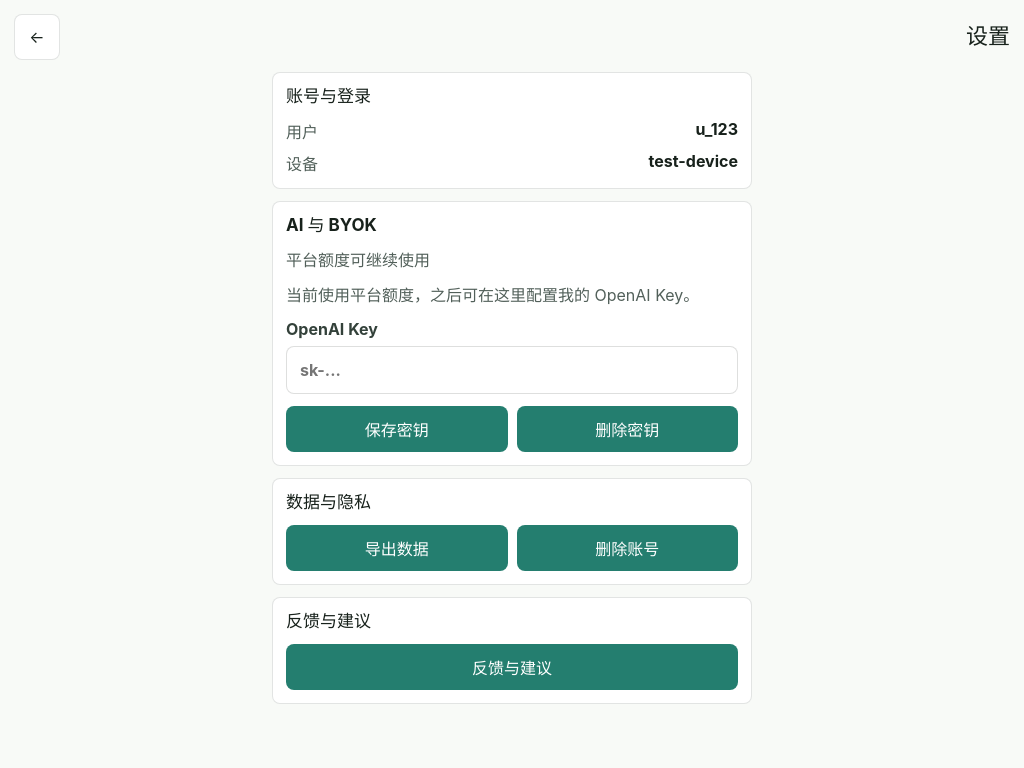
SettingsScreen › validates and saves BYOK without exposing key material in analytics
Type "sk-test-secret-value" into the password field labelled "OpenAI Key" at (512, 370), box [286,346,738,394]
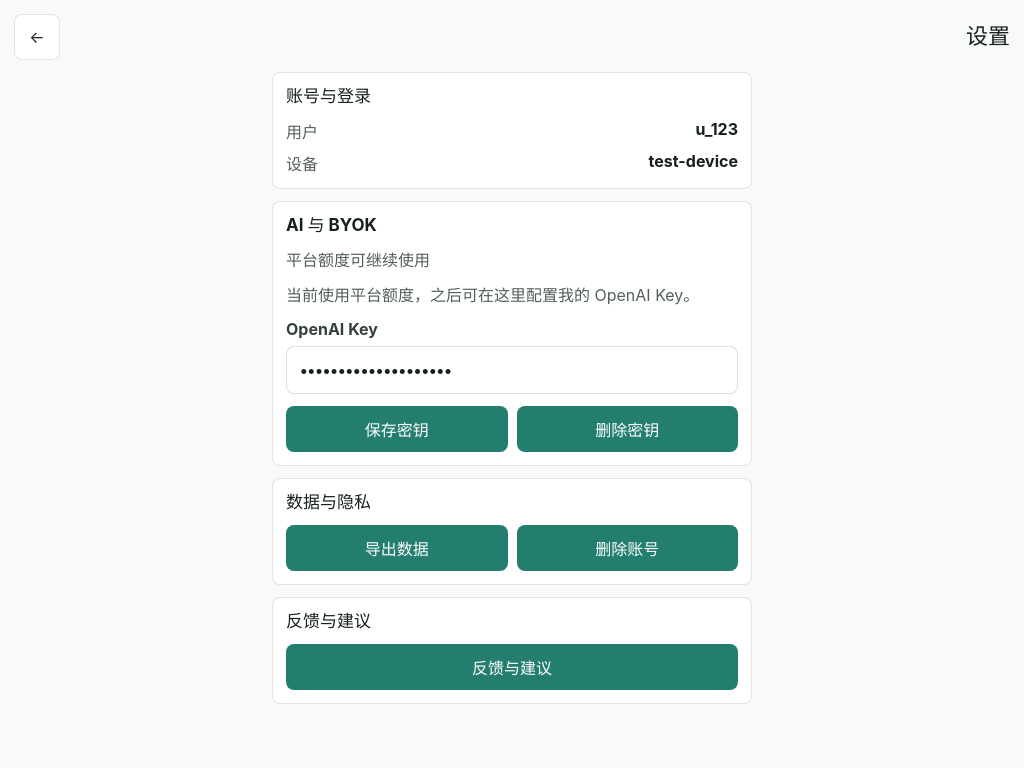
Click the button "保存密钥" at (397, 429), box [286,406,508,452]
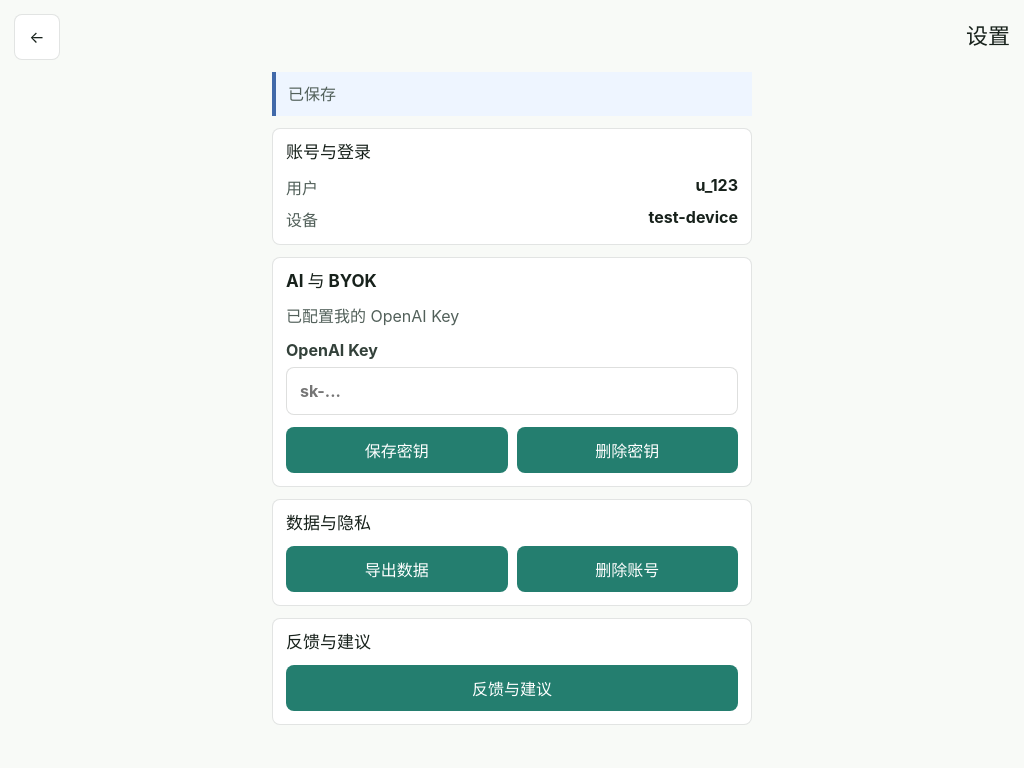
Check: the text "已保存" is shown, box [272,72,752,116]
